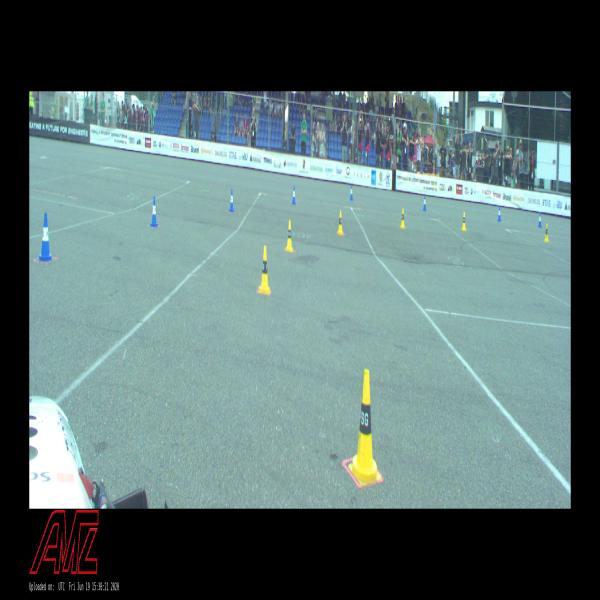blue_cone: (38, 213, 53, 262), (150, 197, 158, 227), (229, 189, 234, 211), (292, 185, 296, 205), (538, 212, 542, 228), (349, 185, 353, 200), (423, 195, 426, 210), (498, 207, 501, 221)
yellow_cone: (349, 369, 381, 485), (259, 245, 270, 294), (285, 219, 293, 252), (337, 210, 344, 234), (400, 208, 405, 228), (544, 224, 549, 242), (461, 212, 466, 230)
